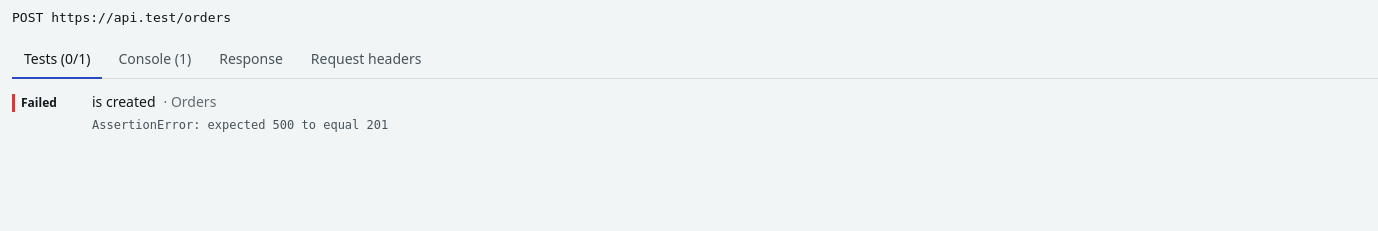
it: StepView › shows a failed step's tests, console, response and request
The width and height of the screenshot is (1378, 231).
Expected: the text "AssertionError: expected 500 to equal 201" is shown, [92,118,388,132]
Click the tab "Console (1)": (155, 59) [106,40,203,78]
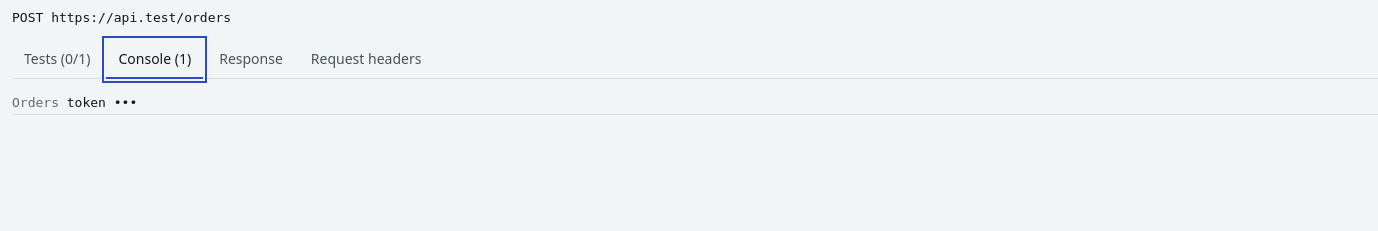
Now the list item "Orders token •••" is shown, box [12,90,1377,115]
Click the tab "Response": (251, 59) [207,40,295,78]
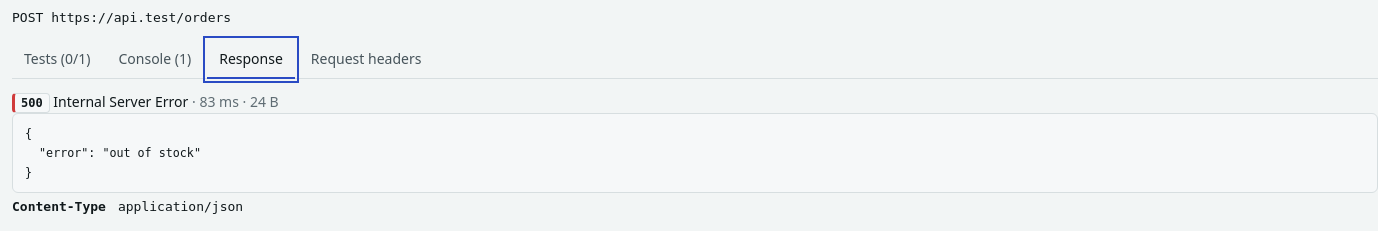
Now the text "{ \"error\": \"out of stock\" }" is shown, box [25,126,201,180]
Click the tab "Request headers": (366, 59) [299,40,433,78]
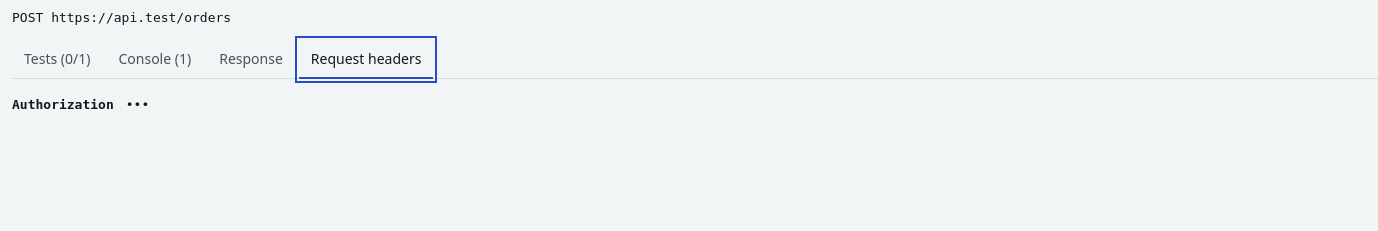
Now the table named "Request headers" reads "Authorization •••", box [12,90,161,118]
